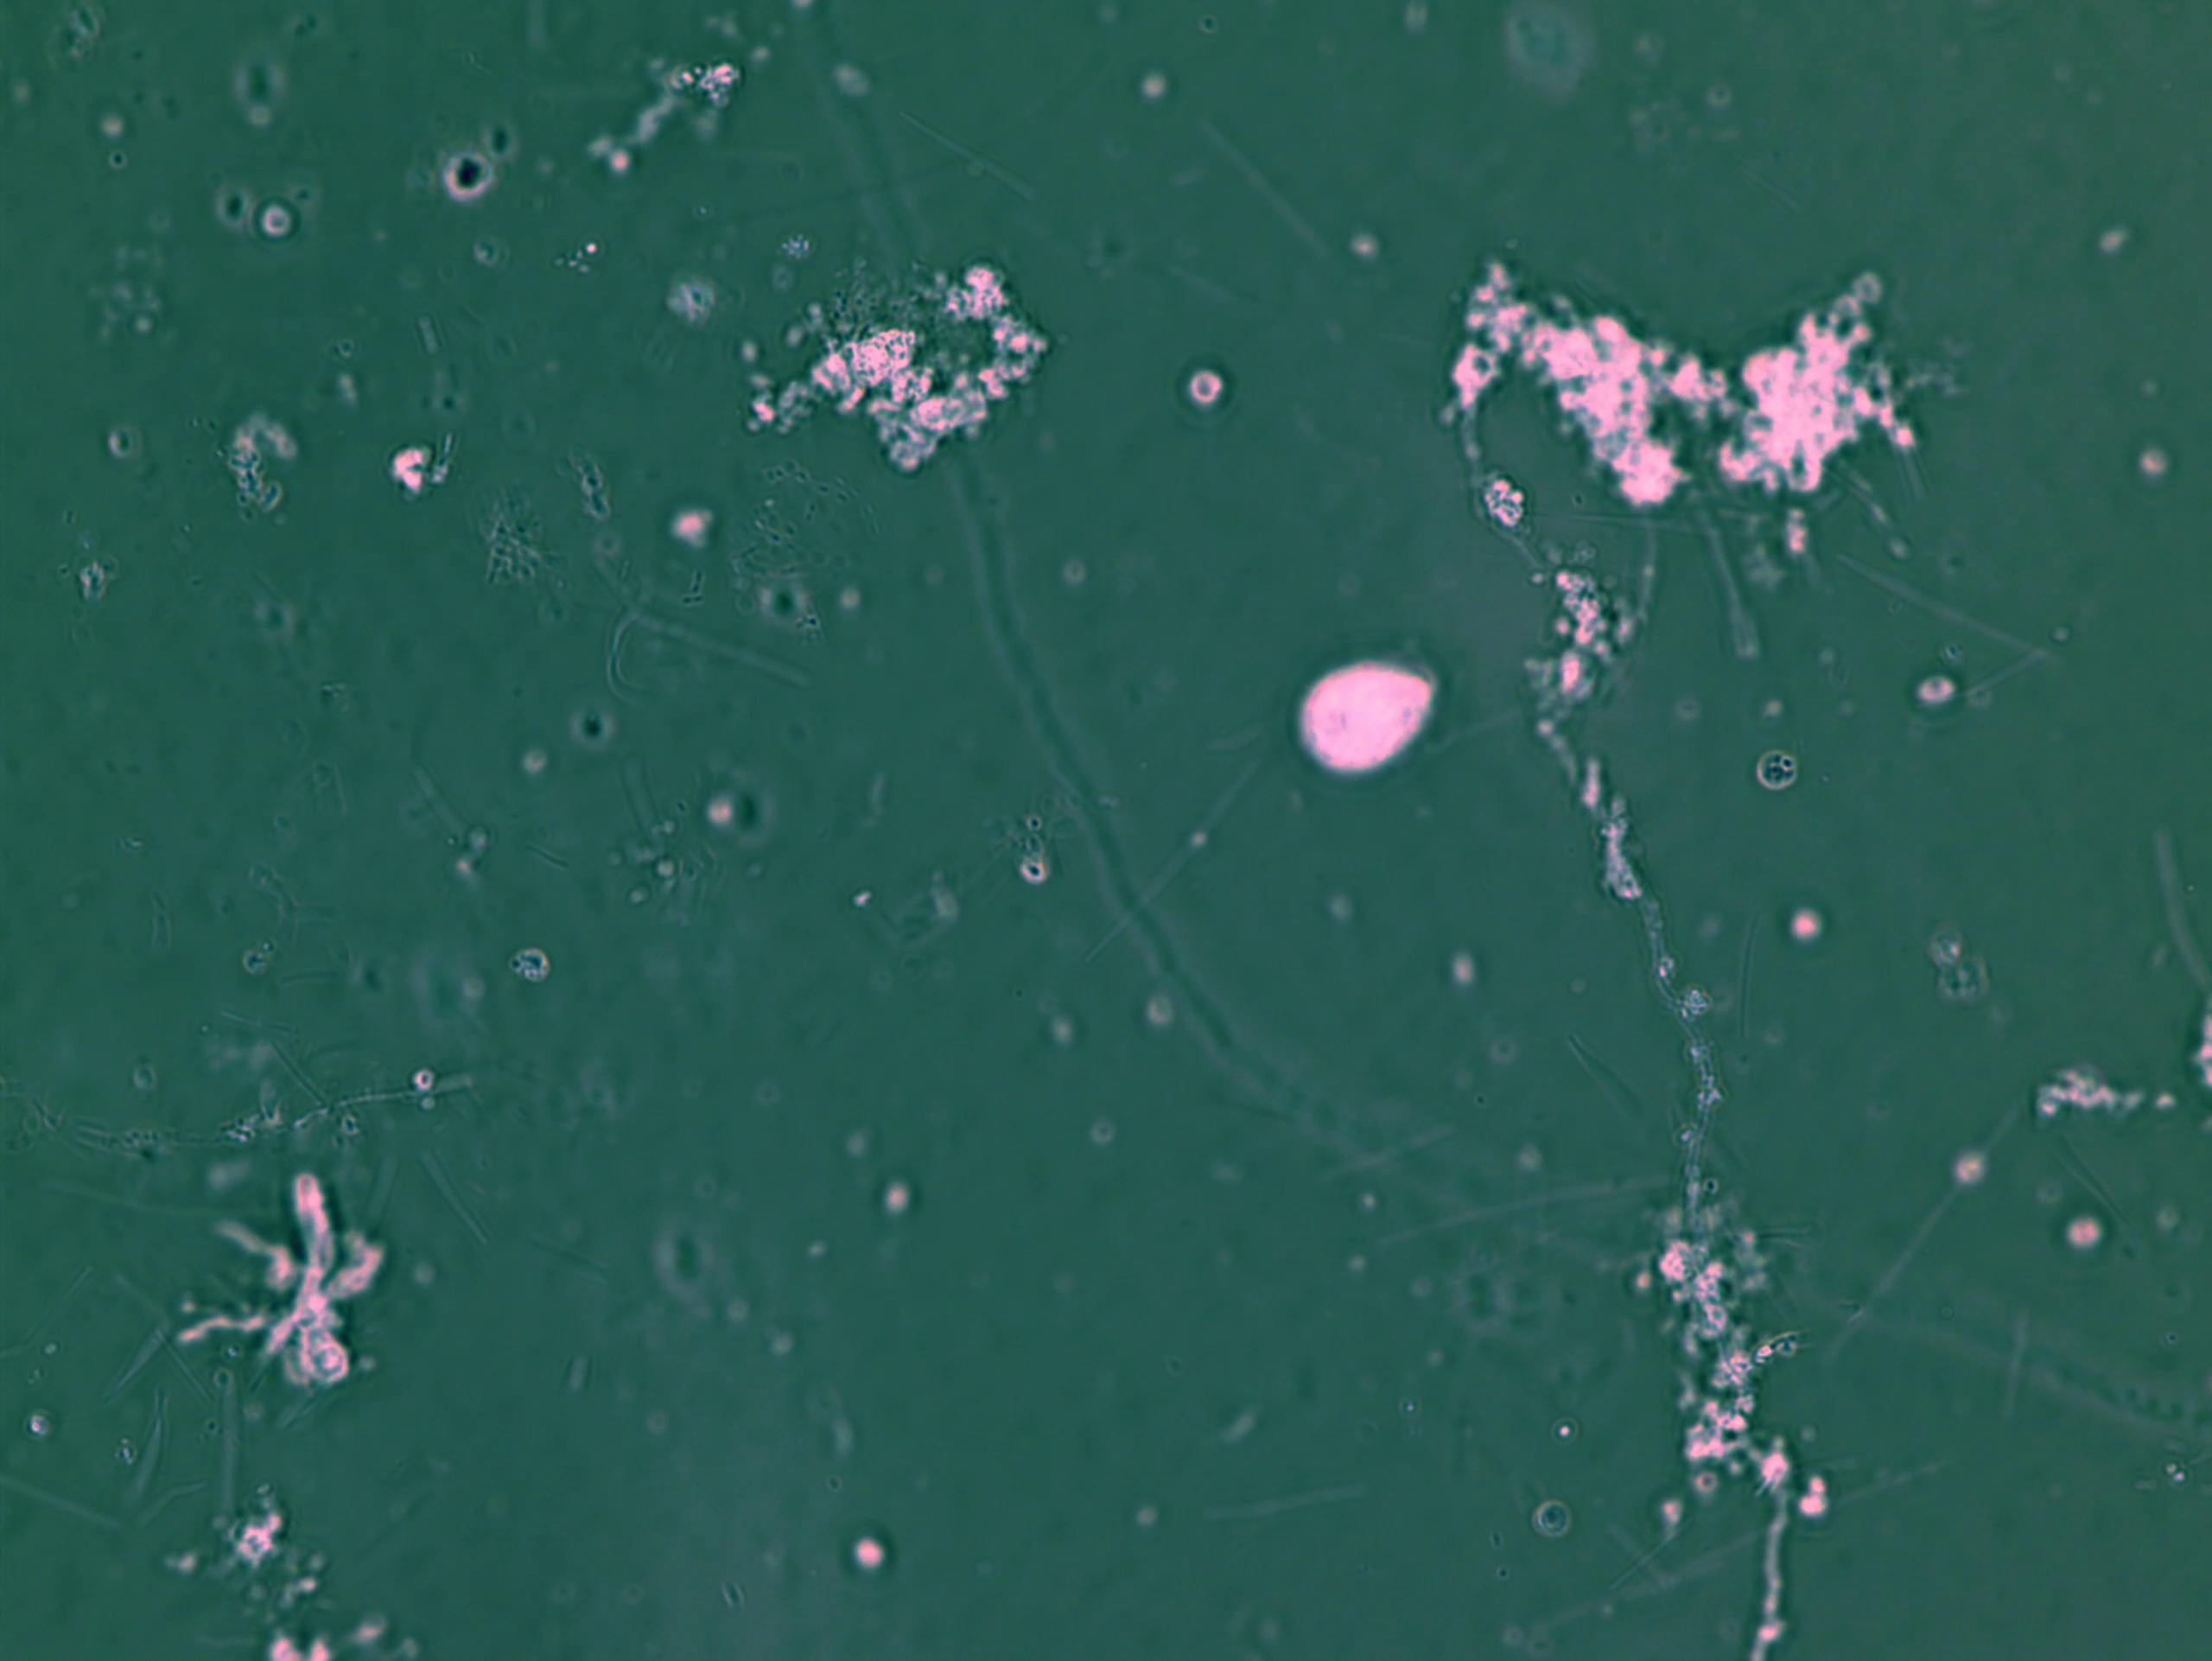depth:40: (1280, 616, 1479, 813)
